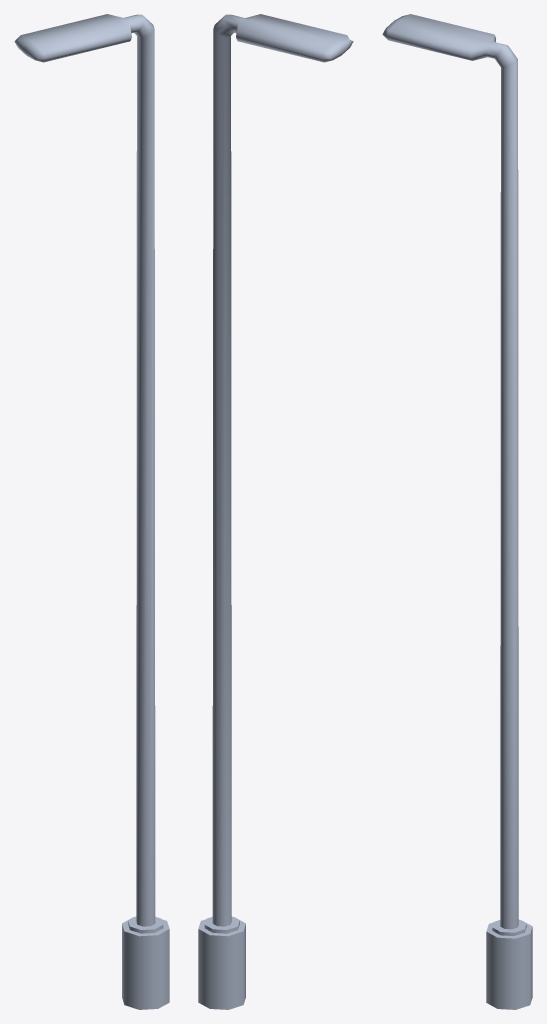
The model's file is street_light.glb.
3 views of the same model, side by side, from view 1: azimuth 30°, elevation 25°; view 2: azimuth 150°, elevation 25°; view 3: azimuth 330°, elevation 25° (orthographic). The views are drawn at different scales.
Visible parts, largest first — view 1: Streetlights; view 2: Streetlights; view 3: Streetlights.
Part boxes in pixels (x1,y1,x2,y2): Streetlights: [14, 14, 169, 1009]; Streetlights: [198, 14, 353, 1009]; Streetlights: [382, 14, 532, 1009].
Size of the model in its own units: 6.65 by 44.05 by 2.12.
2 materials, 1 textured.
